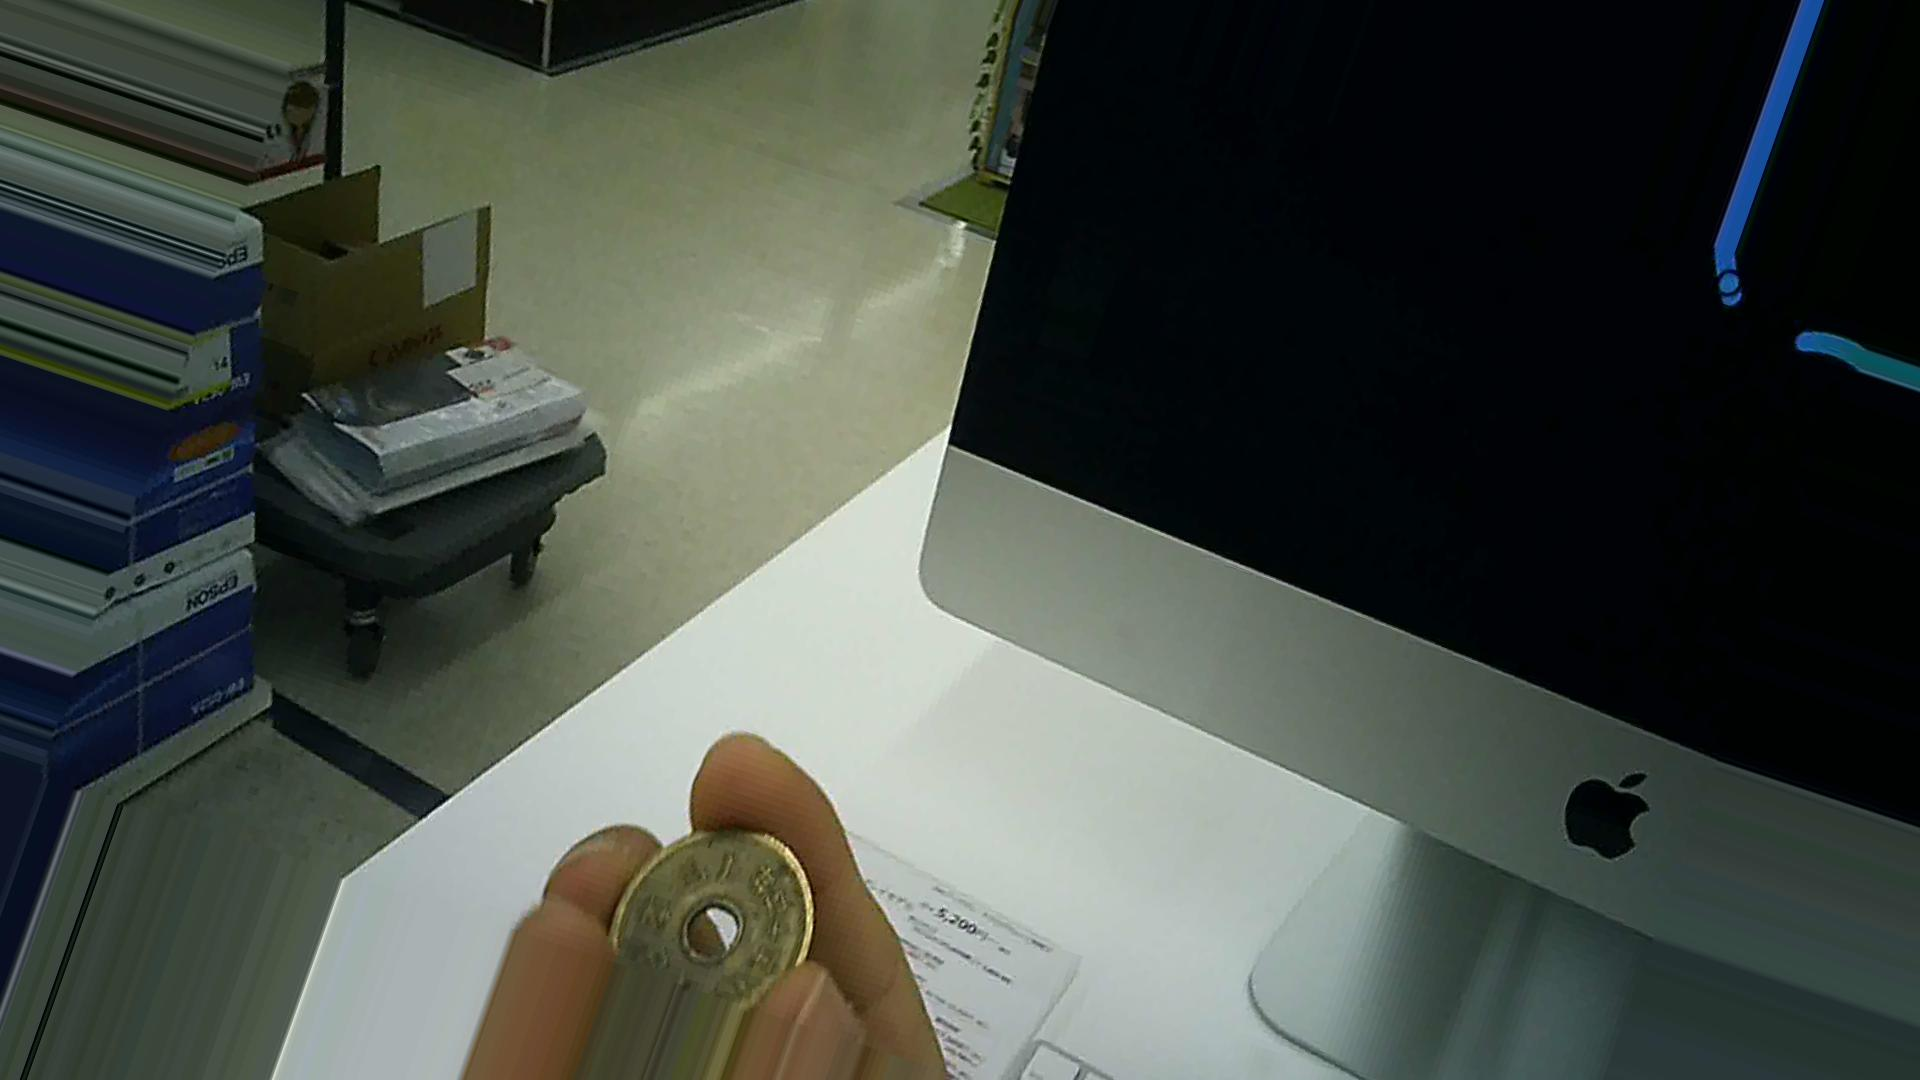5 Yen: (583, 816, 825, 1006)
